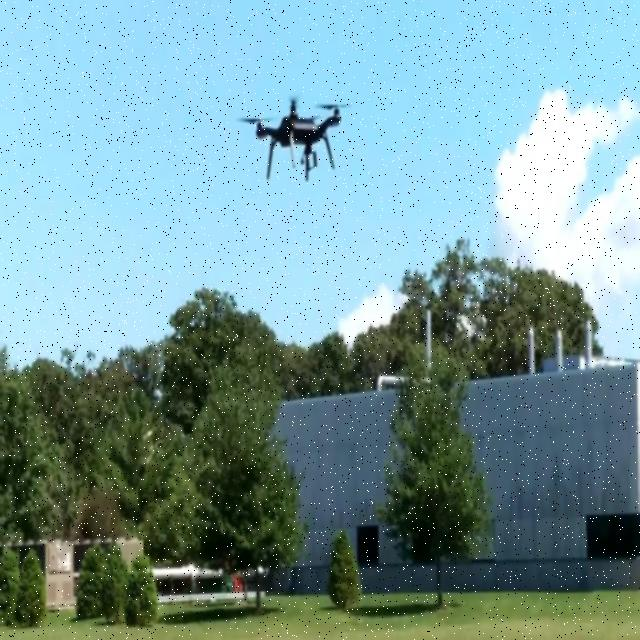UAV: (236, 94, 351, 182)
